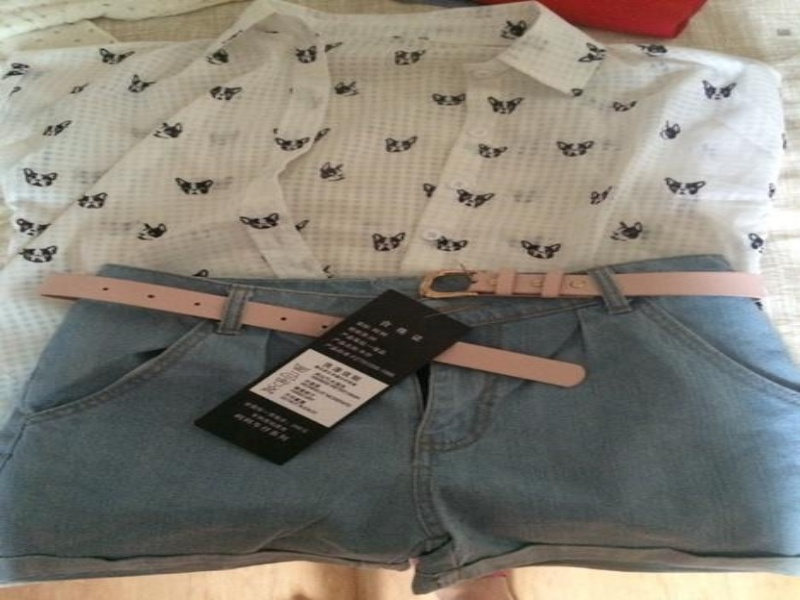short_sleeved_outwear: (0, 0, 798, 439)
shorts: (0, 251, 798, 599)
